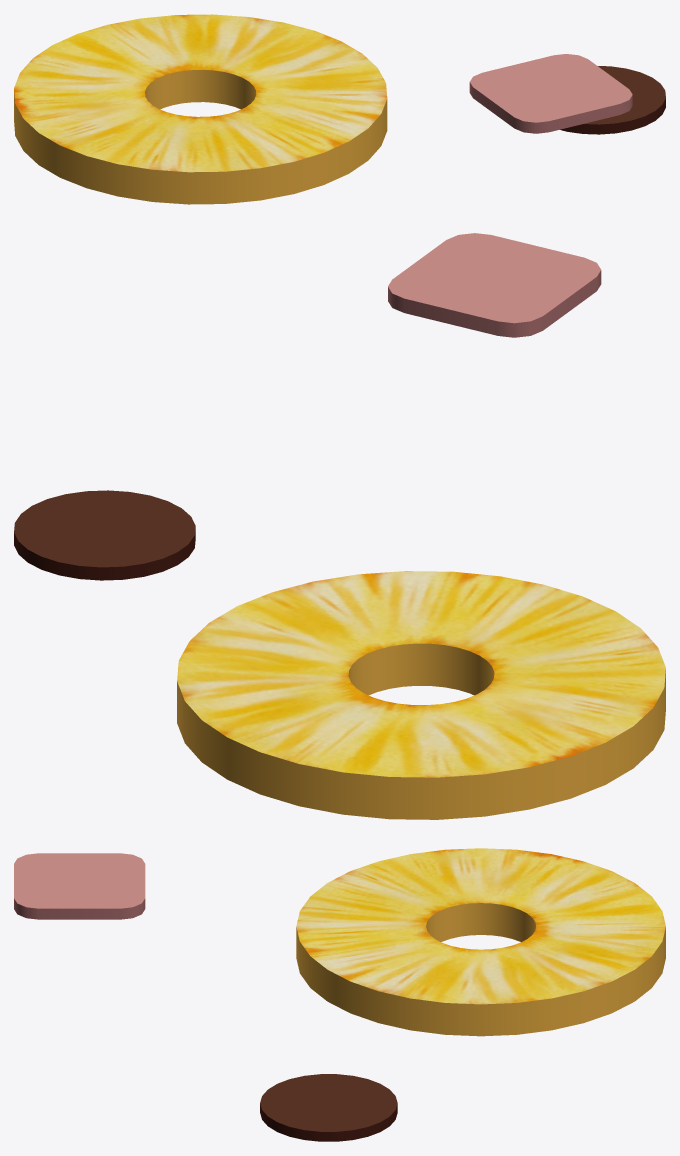
File: toppings3ex.fbx
3 views of the same model, one above another, from view 1: azimuth 30°, elevation 25°; view 2: azimuth 150°, elevation 25°; view 3: azimuth 270°, elevation 25° (orthographic). The views are drawn at different scales.
Visible parts, largest first — view 1: Cylinder.025, Cube.001, Cylinder.027; view 2: Cylinder.025, Cube.001, Cylinder.027; view 3: Cylinder.025, Cube.001, Cylinder.027.
Boxes of the visible parts, <box> form: Cylinder.025: <box>14,14,387,204</box>; Cube.001: <box>469,54,632,133</box>; Cylinder.027: <box>560,66,665,134</box>; Cylinder.025: <box>177,571,665,819</box>; Cube.001: <box>388,233,601,337</box>; Cylinder.027: <box>14,490,195,580</box>; Cylinder.025: <box>296,848,665,1036</box>; Cube.001: <box>14,853,145,919</box>; Cylinder.027: <box>260,1074,397,1141</box>.
Bounding box in the file's own units: 334 × 89.09 × 353.
